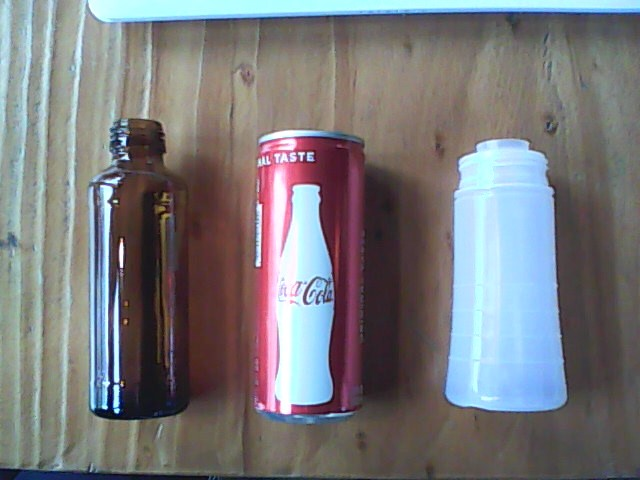Can: (251, 125, 368, 430)
Glass: (84, 115, 196, 425)
Plastic: (439, 134, 573, 417)
